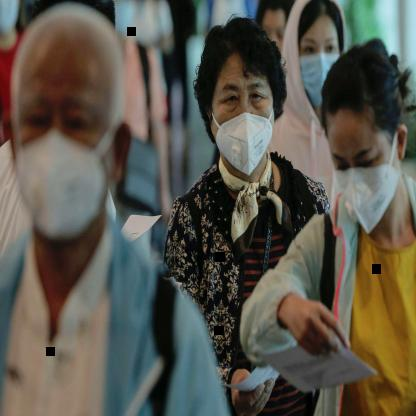mask: (0, 15, 128, 238), (317, 42, 416, 235), (189, 26, 287, 176), (280, 0, 354, 124), (1, 0, 30, 38)
